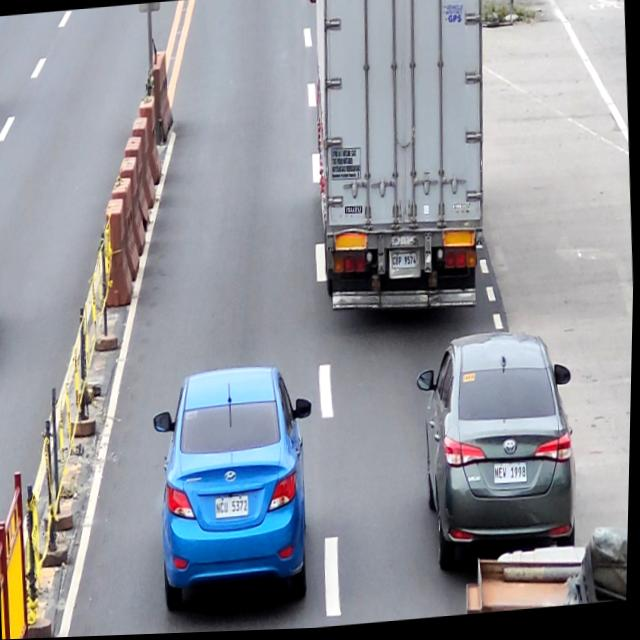Car: (148, 361, 325, 619), (415, 333, 586, 581)
License-Plate: (217, 497, 251, 524), (495, 465, 531, 489), (393, 254, 419, 274)
Truck: (302, 0, 501, 322)
